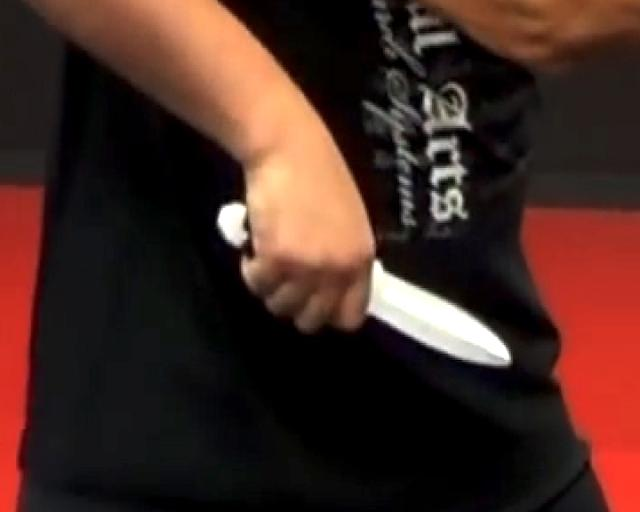pocket-knife: (212, 194, 518, 370)
